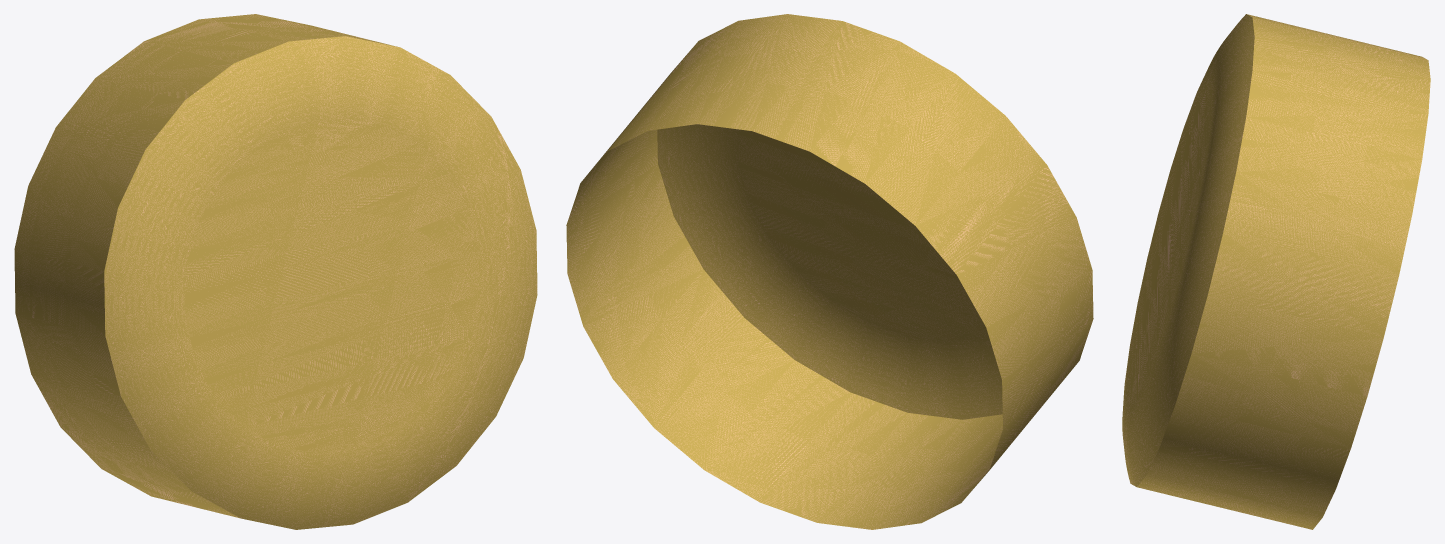
Rendered from original-117.obj.
The picture shows the model from 3 angles, left to right: view 1: azimuth 30°, elevation 25°; view 2: azimuth 150°, elevation 25°; view 3: azimuth 270°, elevation 25°; orthographic projection. The views are drawn at different scales.
Parts seen in each view (by area): view 1: Group17/mesh46/mesh46-geometry/material_0#mesh46-geometry; view 2: Group17/mesh46/mesh46-geometry/material_0#mesh46-geometry; view 3: Group17/mesh46/mesh46-geometry/material_0#mesh46-geometry.
Boxes of the visible parts, x1,y1,x2,y2 form: Group17/mesh46/mesh46-geometry/material_0#mesh46-geometry: [14, 14, 537, 529]; Group17/mesh46/mesh46-geometry/material_0#mesh46-geometry: [566, 14, 1093, 529]; Group17/mesh46/mesh46-geometry/material_0#mesh46-geometry: [1122, 14, 1430, 529].
Size of the model in its own units: 0.0401 by 0.0426 by 0.0253.
